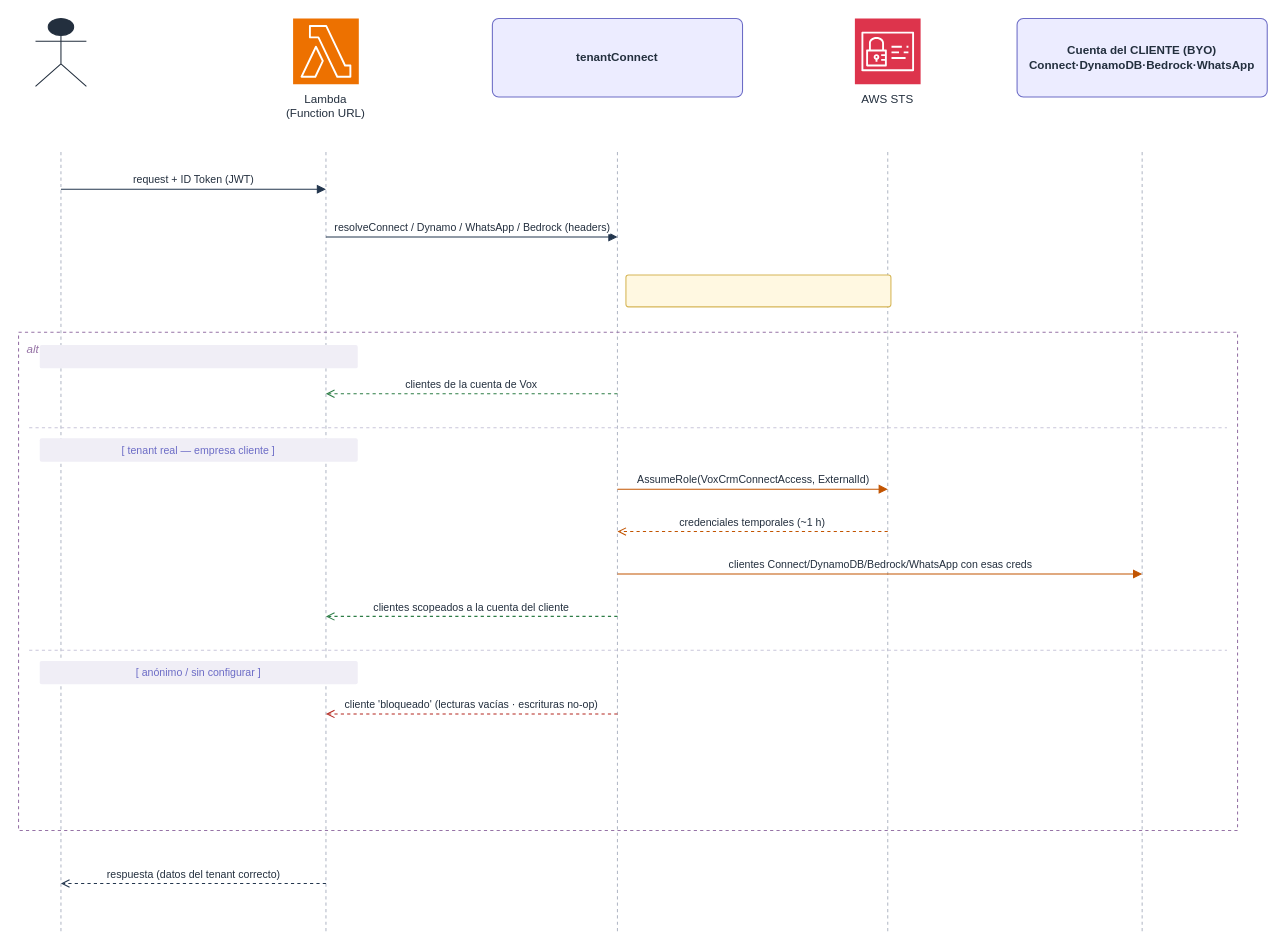
This 1286x951 diagram has some shape labels left out. The shapes that lost their labels are listed below. From the top down, each one's centre as x and y in pixels, then its label:
pixel 60 51: Usuario (navegador)
pixel 758 290: verifica JWT → extrae tenantId
pixel 198 356: [ tenant fundador / legacy — Novasys ]
